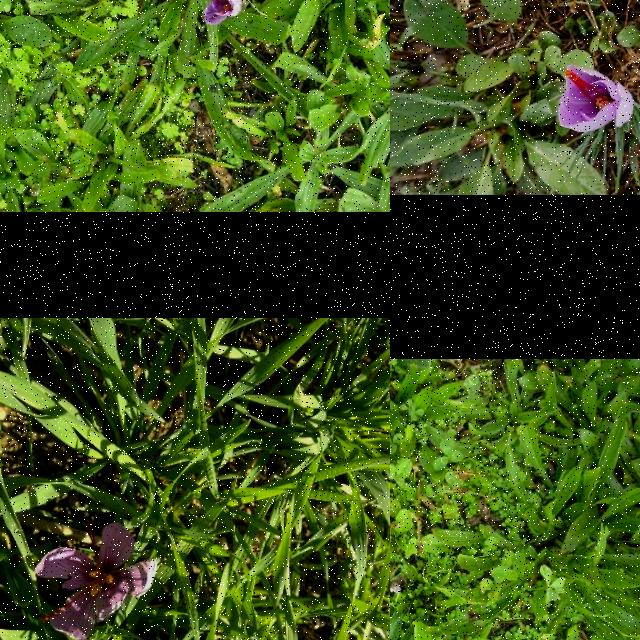flower: (36, 523, 156, 639), (558, 65, 634, 133), (204, 0, 242, 27)
